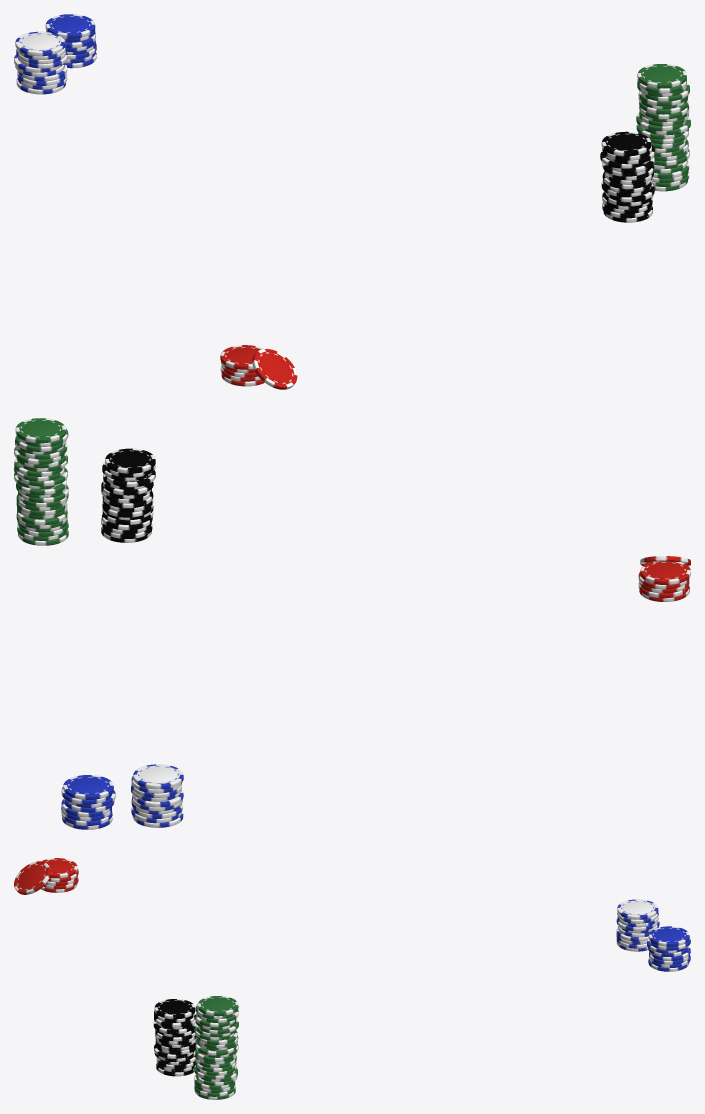
The model's file is TableChips-012.glb.
The picture shows the model from 3 angles, top to bottom: view 1: azimuth 30°, elevation 25°; view 2: azimuth 150°, elevation 25°; view 3: azimuth 270°, elevation 25°; orthographic projection. The views are drawn at different scales.
Visible parts, largest first — view 1: TableChips-012; view 2: TableChips-012; view 3: TableChips-012.
Boxes of the visible parts, x1,y1,x2,y2 form: TableChips-012: (14, 14, 690, 389); TableChips-012: (14, 418, 690, 829); TableChips-012: (14, 858, 690, 1099).
Size of the model in its own units: 4.71 by 0.85 by 5.96.
Materials: 5 (5 with a texture image).
